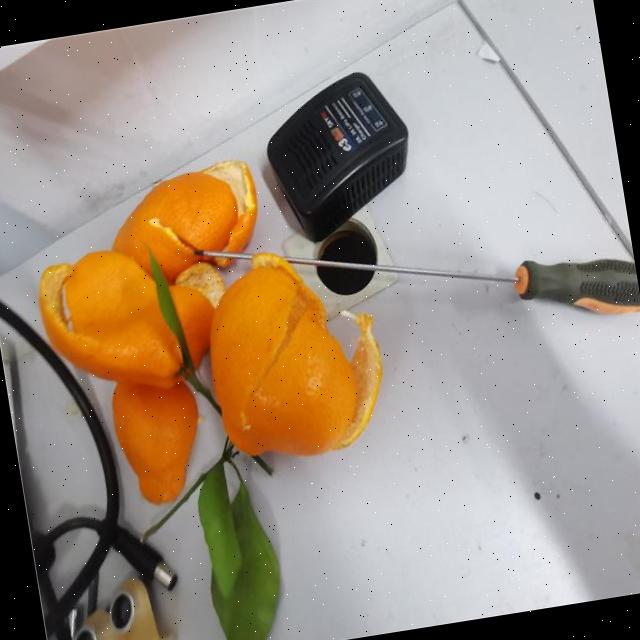orange-peel: (19, 138, 399, 518)
